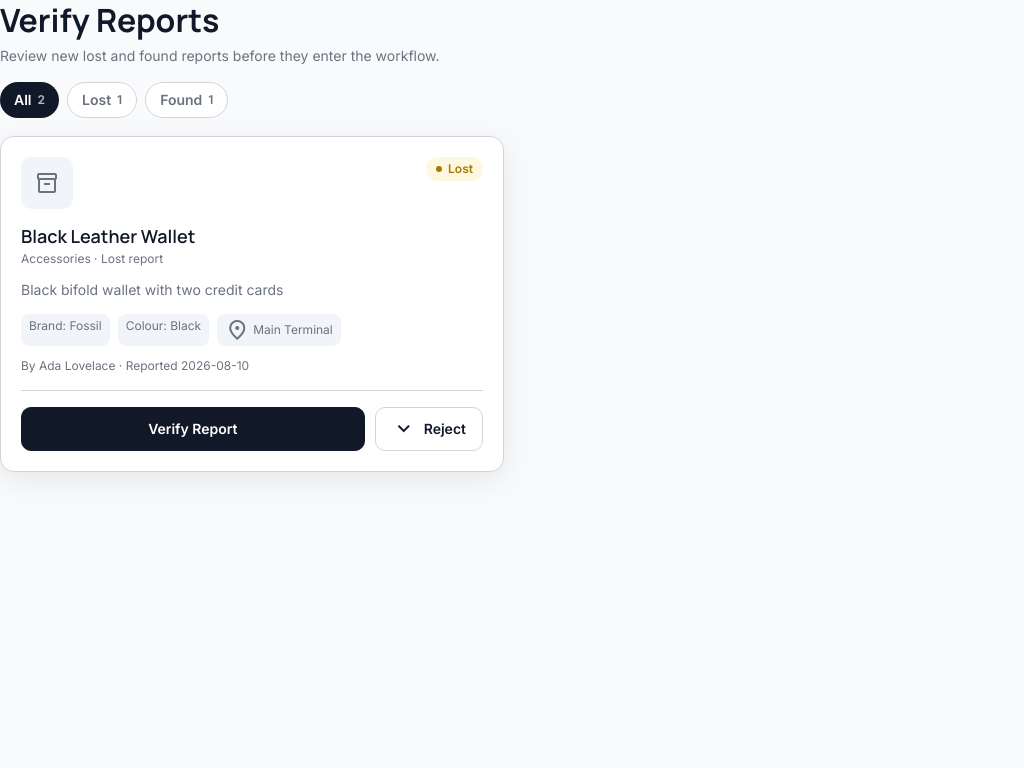
Scenario: VerifyReports › opens the status modal for a report
Expected: the heading "Black Leather Wallet" is shown, [21,224,195,248]
Click the button "Verify Report": [193, 429] box [21,407,365,451]
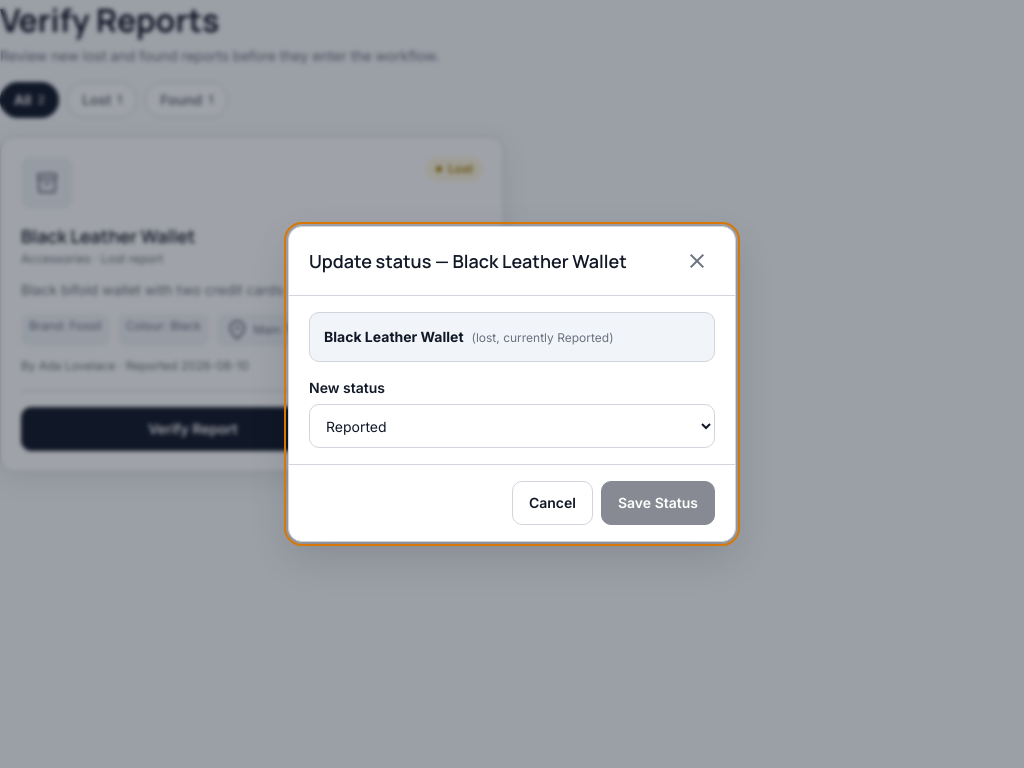
Result: the dialog is shown at [288,226,736,542]
Result: the heading "Update status — Black Leather Wallet" is shown at [309,248,627,274]
